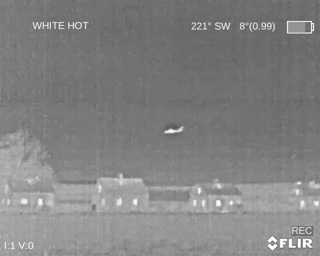AIRPLANE: (162, 125, 184, 136)
